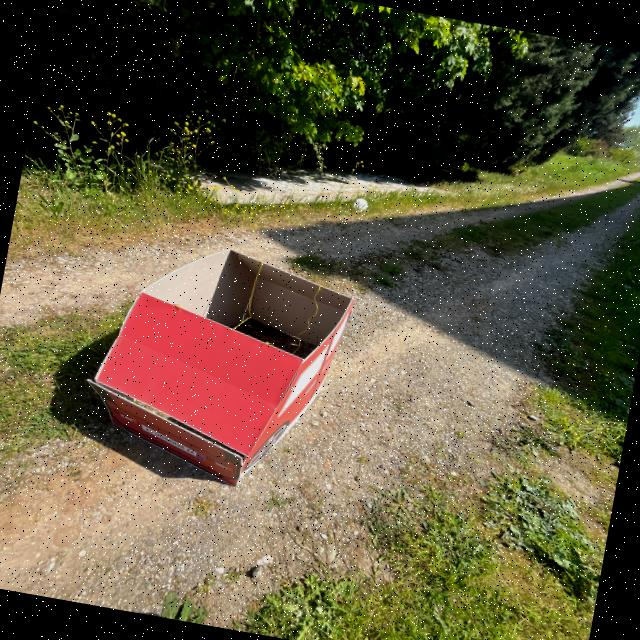red_car: (55, 219, 375, 507)
